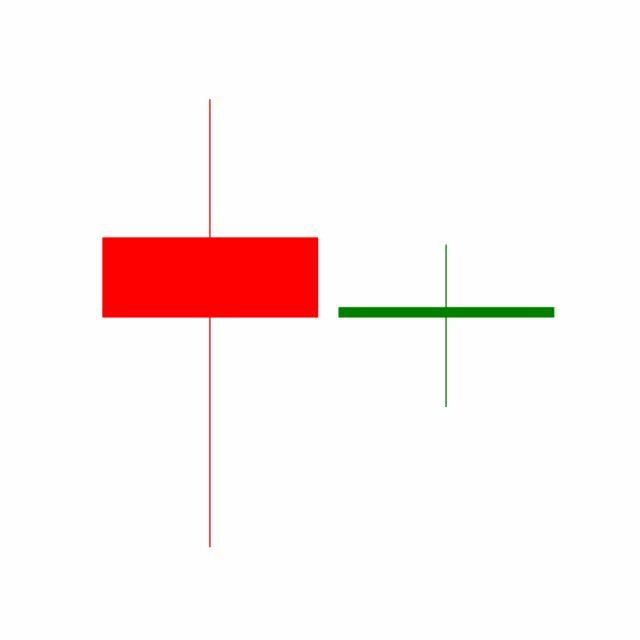Dragonfly Doji: (328, 243, 566, 411)
